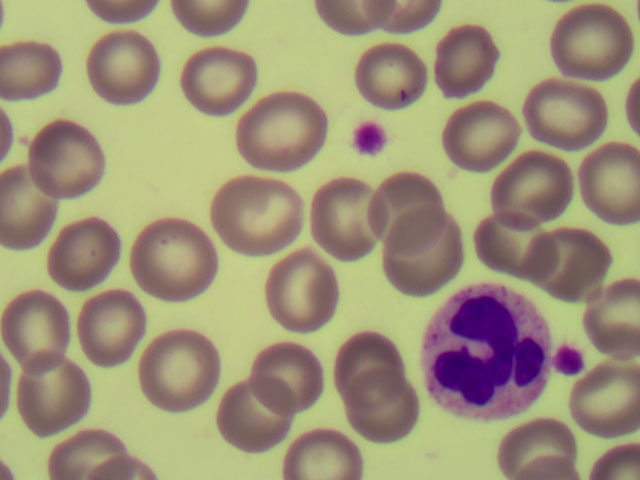Platelets: (348, 120, 388, 157), (555, 342, 585, 380)
RBC: (82, 28, 164, 106), (177, 39, 259, 117), (241, 91, 323, 169), (218, 172, 300, 250), (129, 217, 211, 295), (39, 212, 121, 290), (31, 113, 113, 191), (2, 168, 84, 246), (1, 288, 83, 366), (8, 357, 90, 435), (68, 288, 150, 366), (138, 332, 220, 410), (210, 381, 292, 459), (245, 336, 327, 414), (263, 252, 345, 330), (305, 177, 387, 255), (361, 157, 443, 235), (386, 216, 468, 294), (442, 99, 524, 177), (433, 24, 515, 102), (351, 37, 433, 115), (547, 7, 629, 85), (524, 71, 606, 149), (487, 148, 569, 226), (558, 148, 640, 226), (470, 204, 552, 282), (530, 228, 612, 306), (558, 369, 640, 447), (343, 372, 425, 450), (335, 321, 417, 399), (1, 28, 82, 106), (277, 426, 369, 480), (487, 418, 579, 472)
WBC: (422, 289, 554, 414)
